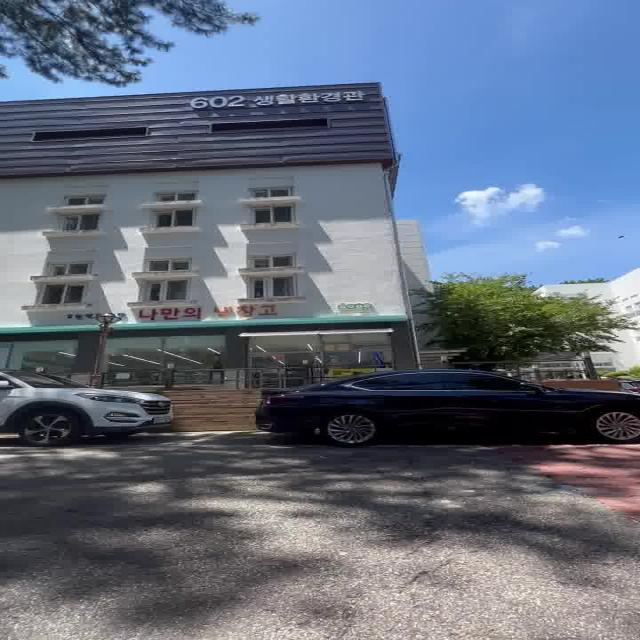building: (0, 69, 434, 369)
